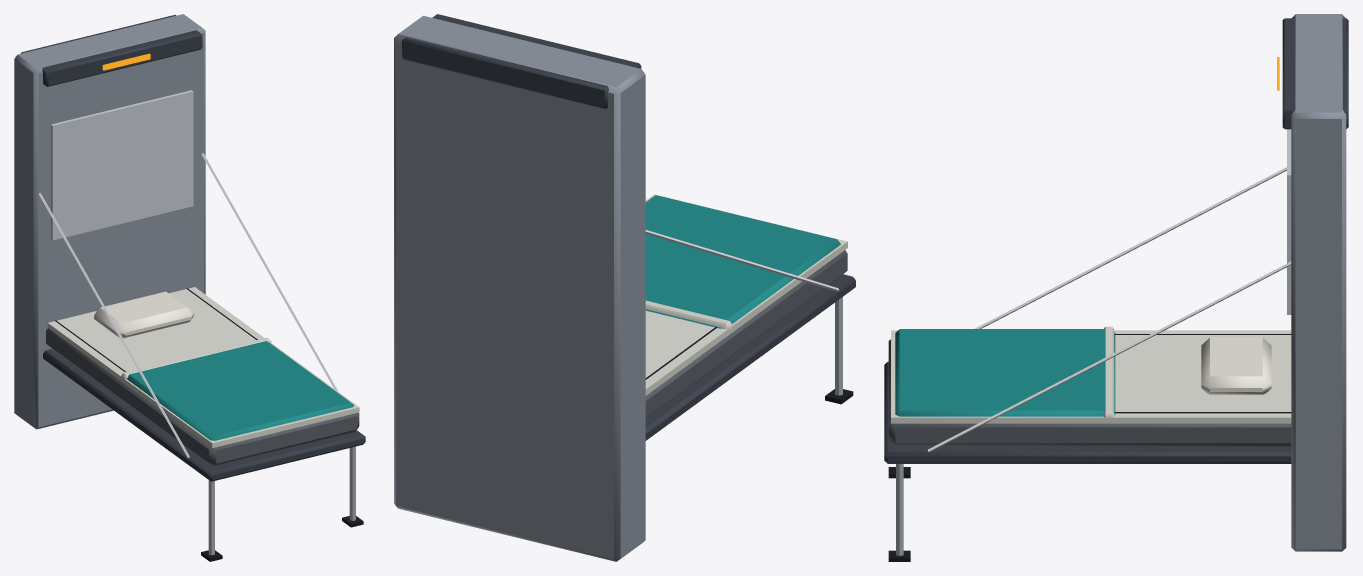
Rendered from bed_fold_down_wall_bed.glb.
3 renders of one model, left to right at view 1: azimuth 30°, elevation 25°; view 2: azimuth 150°, elevation 25°; view 3: azimuth 270°, elevation 25°, orthographic. The views are drawn at different scales.
Visible parts, largest first — view 1: bed_fold_down_wall_bed; view 2: bed_fold_down_wall_bed; view 3: bed_fold_down_wall_bed.
Part boxes in pixels (bbox=[...]): bed_fold_down_wall_bed: bbox=[14, 14, 365, 561]; bed_fold_down_wall_bed: bbox=[394, 14, 855, 561]; bed_fold_down_wall_bed: bbox=[884, 14, 1348, 561].
Size of the model in its own units: 1.1 by 2.27 by 2.11.
